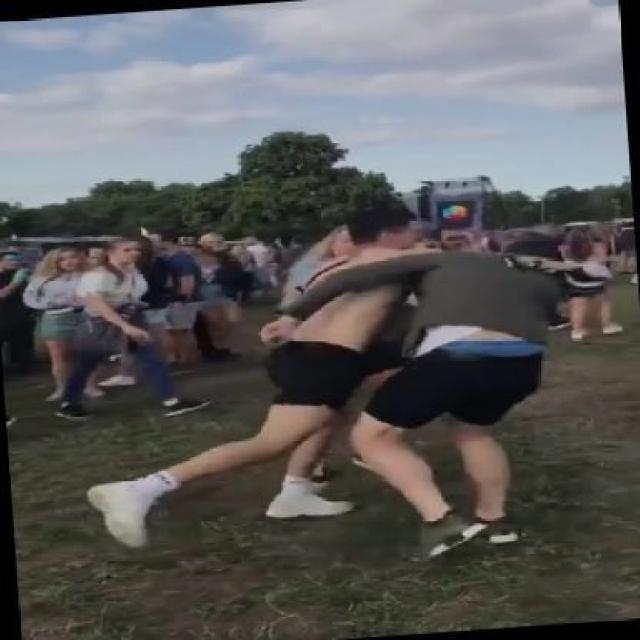fight: (82, 190, 575, 574)
